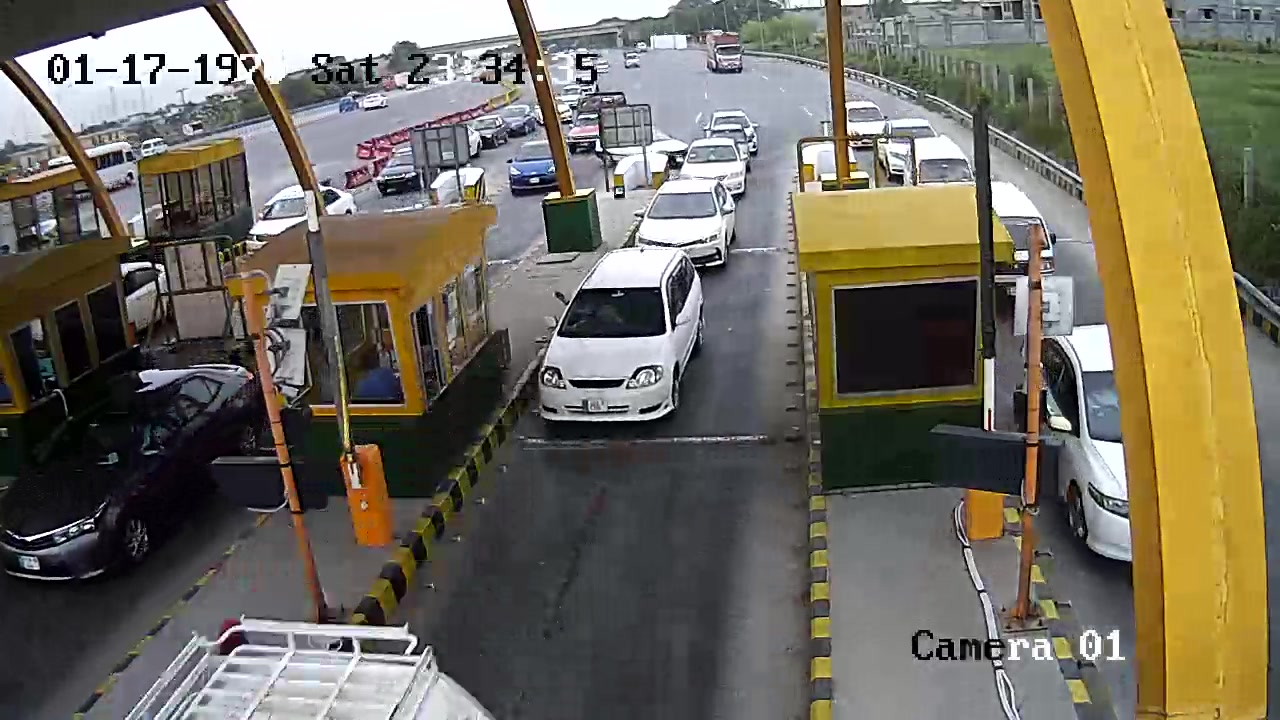F1: (518, 244, 726, 447)
